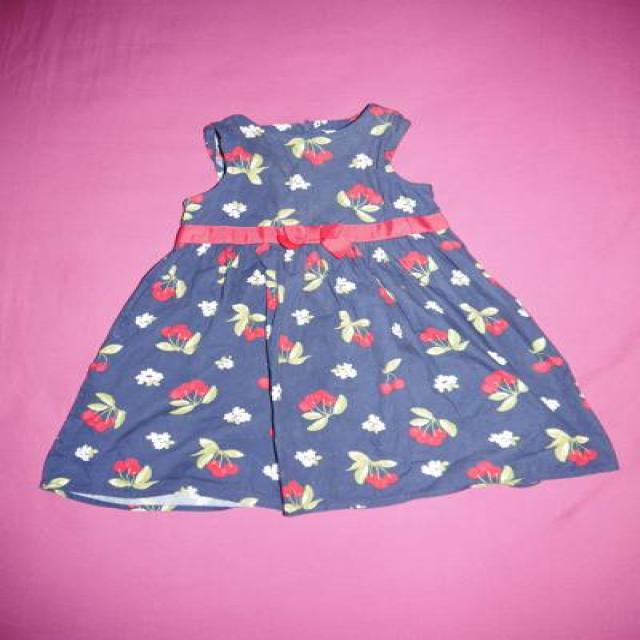Clothes -Biodegradable-: (43, 105, 620, 515)
